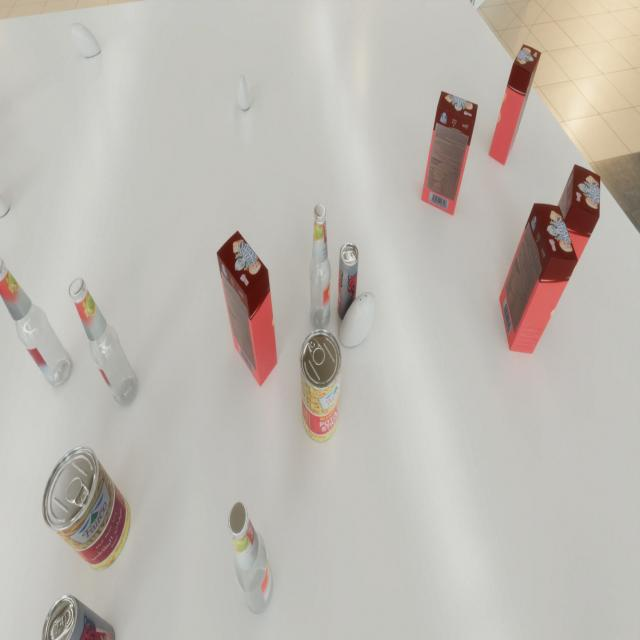Bottle: (0, 258, 73, 388), (68, 278, 138, 407), (228, 502, 274, 616), (308, 204, 332, 332)
HelloPanda: (499, 203, 578, 354), (531, 164, 600, 312), (216, 230, 278, 386), (421, 90, 478, 216), (489, 44, 541, 166)
Potato_sticks: (42, 446, 131, 570), (299, 328, 342, 442)
Rita_zero_sugar: (338, 242, 358, 322)
Salt: (339, 291, 376, 347), (70, 23, 101, 57), (237, 74, 251, 110)
